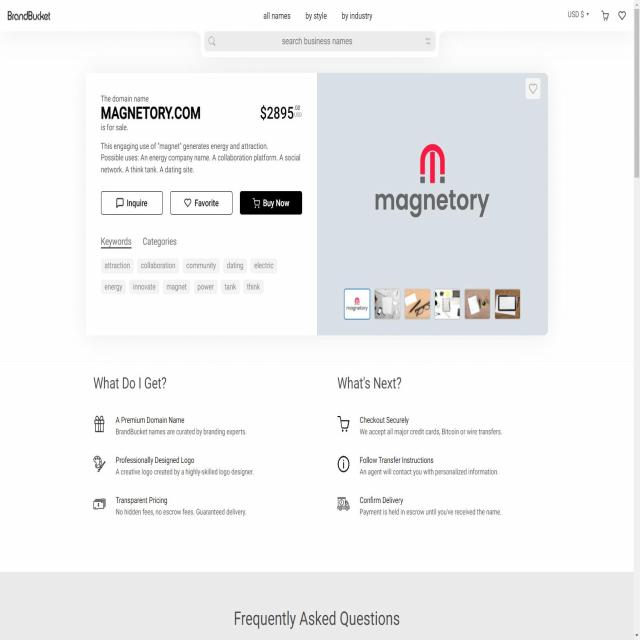button: (169, 190, 234, 217), (239, 190, 304, 216), (99, 190, 164, 215)
input: (204, 30, 436, 54)
select: (565, 6, 591, 23)
